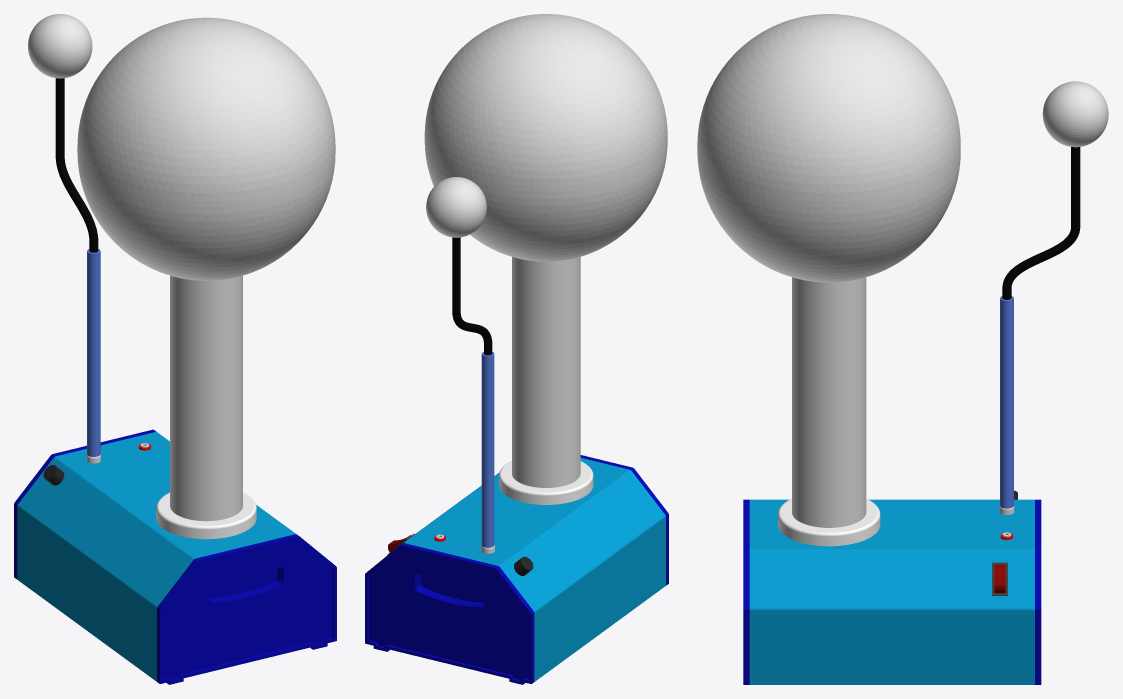
The model's file is Generador de Van de Graaff.fbx.
3 renders of one model, left to right at view 1: azimuth 30°, elevation 25°; view 2: azimuth 150°, elevation 25°; view 3: azimuth 270°, elevation 25°, orthographic. The views are drawn at different scales.
Parts seen in each view (by area): view 1: Esfera, BaseCeleste, BaseAzul, Tubo, EsferaSegundaria, MangoVara, AnilloBaseBlanco, Vara; view 2: Esfera, BaseCeleste, BaseAzul, Tubo, EsferaSegundaria, MangoVara, AnilloBaseBlanco, Vara; view 3: Esfera, BaseCeleste, Tubo, EsferaSegundaria, MangoVara, BaseAzul, AnilloBaseBlanco, Vara.
Part boxes in pixels (left/top/right/bottom): Esfera: left=77, top=17, right=335, bottom=280; BaseCeleste: left=17, top=432, right=296, bottom=681; BaseAzul: left=14, top=429, right=336, bottom=684; Tubo: left=170, top=275, right=242, bottom=521; EsferaSegundaria: left=28, top=14, right=92, bottom=78; MangoVara: left=87, top=249, right=100, bottom=456; AnilloBaseBlanco: left=156, top=492, right=256, bottom=539; Vara: left=55, top=78, right=98, bottom=252; Esfera: left=424, top=14, right=667, bottom=261; BaseCeleste: left=403, top=458, right=665, bottom=681; BaseAzul: left=365, top=455, right=668, bottom=684; Tubo: left=512, top=257, right=580, bottom=487; EsferaSegundaria: left=426, top=177, right=486, bottom=237; MangoVara: left=481, top=352, right=494, bottom=547; AnilloBaseBlanco: left=499, top=461, right=593, bottom=504; Vara: left=452, top=237, right=492, bottom=355; Esfera: left=697, top=14, right=960, bottom=282; BaseCeleste: left=749, top=499, right=1034, bottom=684; Tubo: left=792, top=277, right=866, bottom=527; EsferaSegundaria: left=1042, top=81, right=1108, bottom=147; MangoVara: left=1000, top=296, right=1013, bottom=508; BaseAzul: left=743, top=499, right=1041, bottom=684; AnilloBaseBlanco: left=778, top=498, right=880, bottom=546; Vara: left=1002, top=147, right=1080, bottom=299.
Size of the model in its own units: 23 by 59.5 by 35.89.
